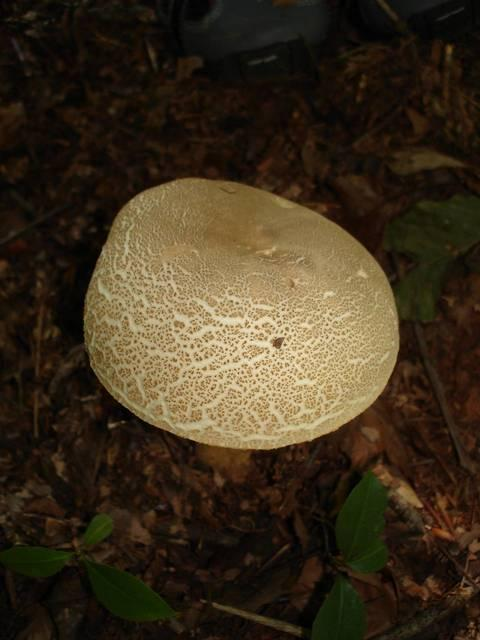Edible Mushroom: (81, 175, 401, 459)
